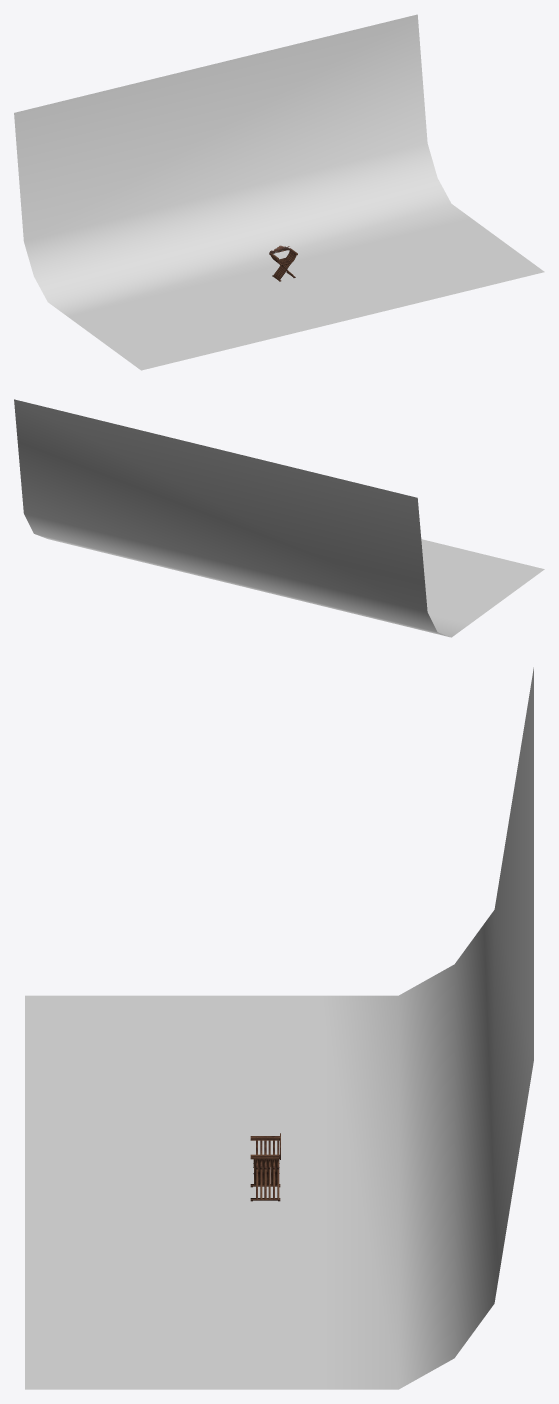
File: savon_FBX.fbx
3 views of the same model, one above another, from view 1: azimuth 30°, elevation 25°; view 2: azimuth 150°, elevation 25°; view 3: azimuth 270°, elevation 25° (orthographic). The views are drawn at different scales.
Parts seen in each view (by area): view 1: Plane001, Savonarola; view 2: Plane001; view 3: Plane001, Savonarola.
Part boxes in pixels (x1,y1,x2,y2): Plane001: (14, 14, 544, 370); Savonarola: (269, 245, 297, 281); Plane001: (14, 399, 544, 637); Plane001: (25, 667, 533, 1389); Savonarola: (250, 1133, 280, 1201).
Size of the model in its own units: 350 by 136 by 191.
